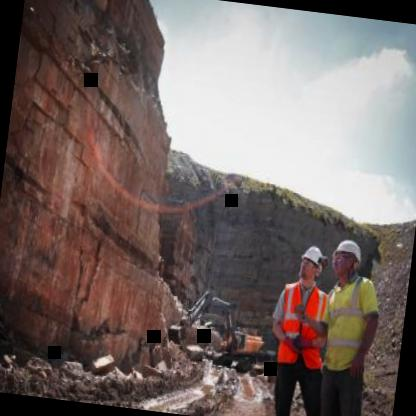helmet: (328, 234, 366, 282), (296, 238, 327, 286)
